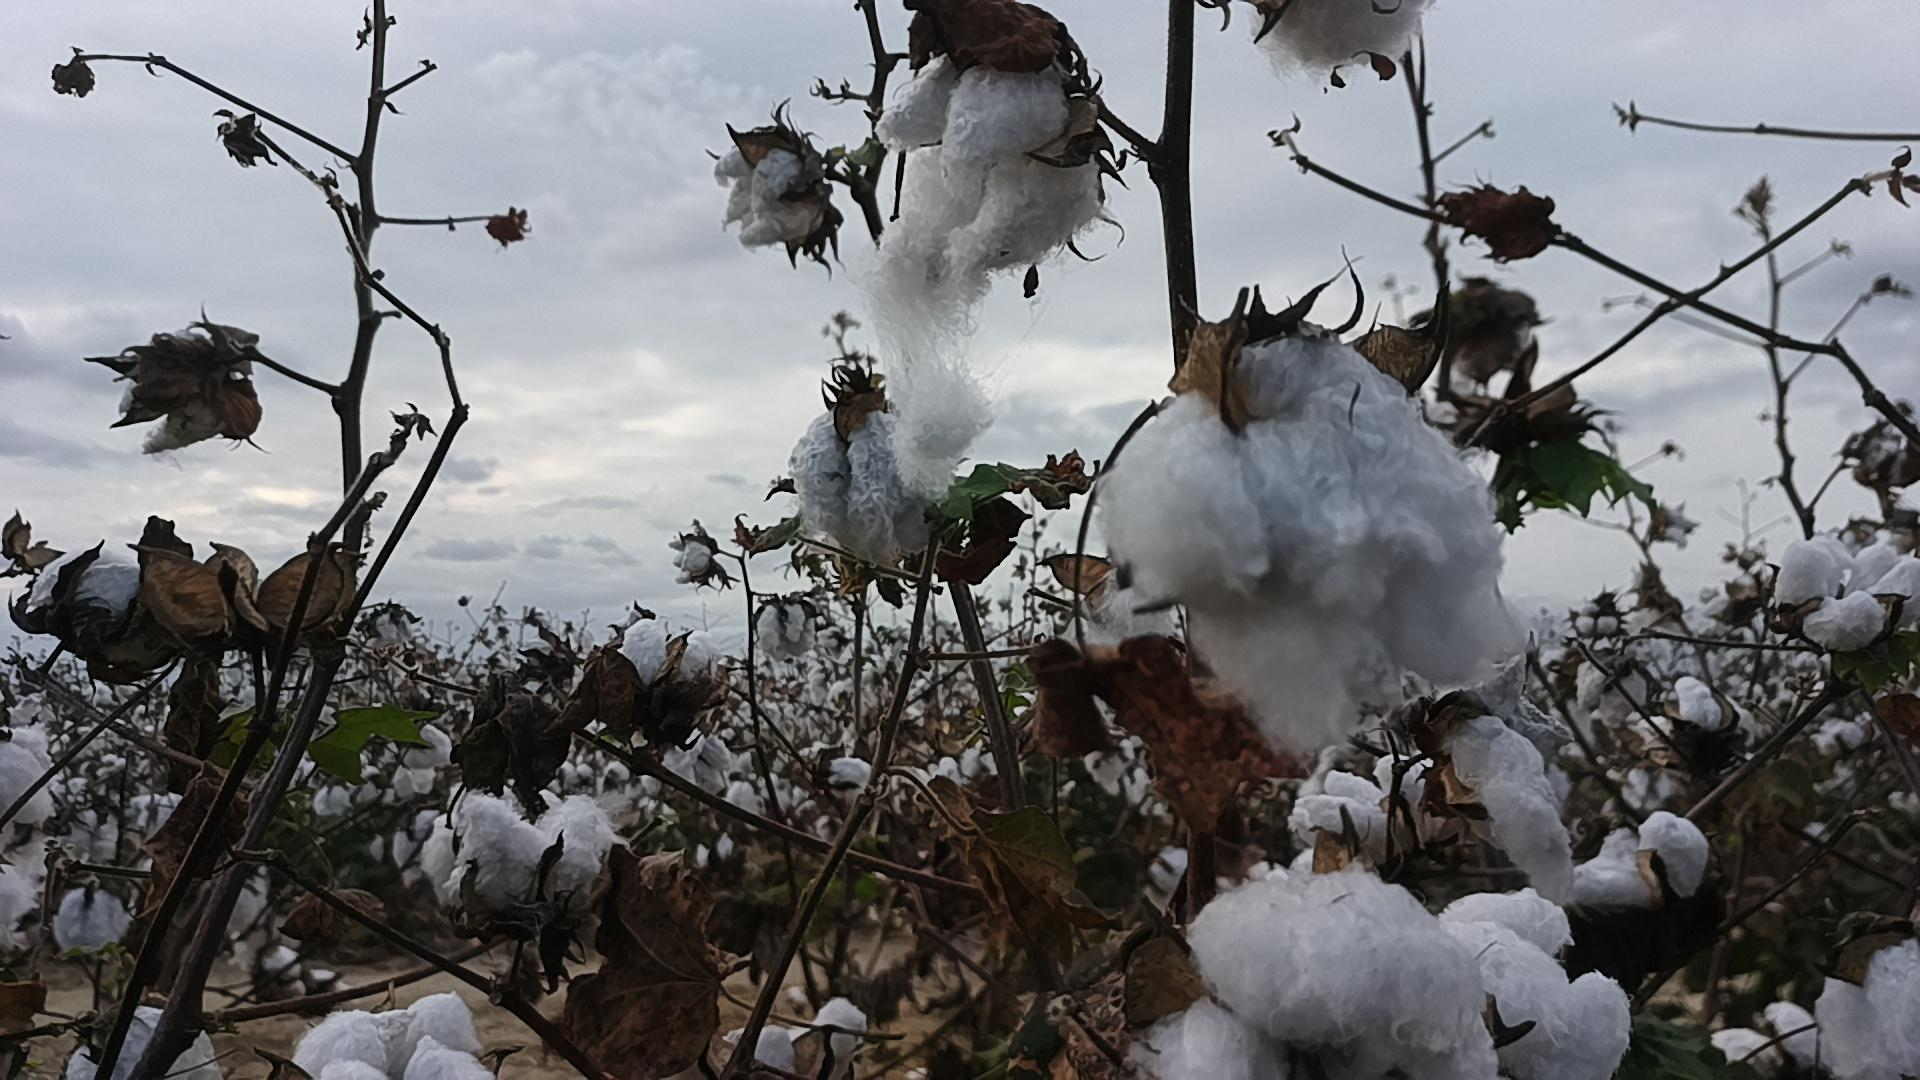cotton_ready: (1097, 328, 1526, 758), (866, 53, 1101, 502), (1135, 876, 1502, 1080), (1437, 889, 1633, 1080), (1437, 691, 1575, 901), (422, 787, 616, 923), (787, 404, 934, 564), (1290, 750, 1449, 877), (295, 989, 497, 1080), (1772, 531, 1920, 650), (1249, 0, 1433, 88), (1816, 931, 1920, 1080), (117, 331, 245, 452), (713, 125, 833, 253), (1564, 812, 1709, 910), (724, 996, 869, 1080), (570, 620, 724, 699), (65, 1005, 225, 1080), (1064, 566, 1179, 670), (1640, 676, 1754, 770), (32, 546, 145, 630), (1705, 1005, 1830, 1080), (632, 723, 736, 802), (0, 727, 54, 853), (54, 887, 132, 955), (1577, 661, 1648, 731), (754, 595, 819, 662), (224, 858, 266, 935)
